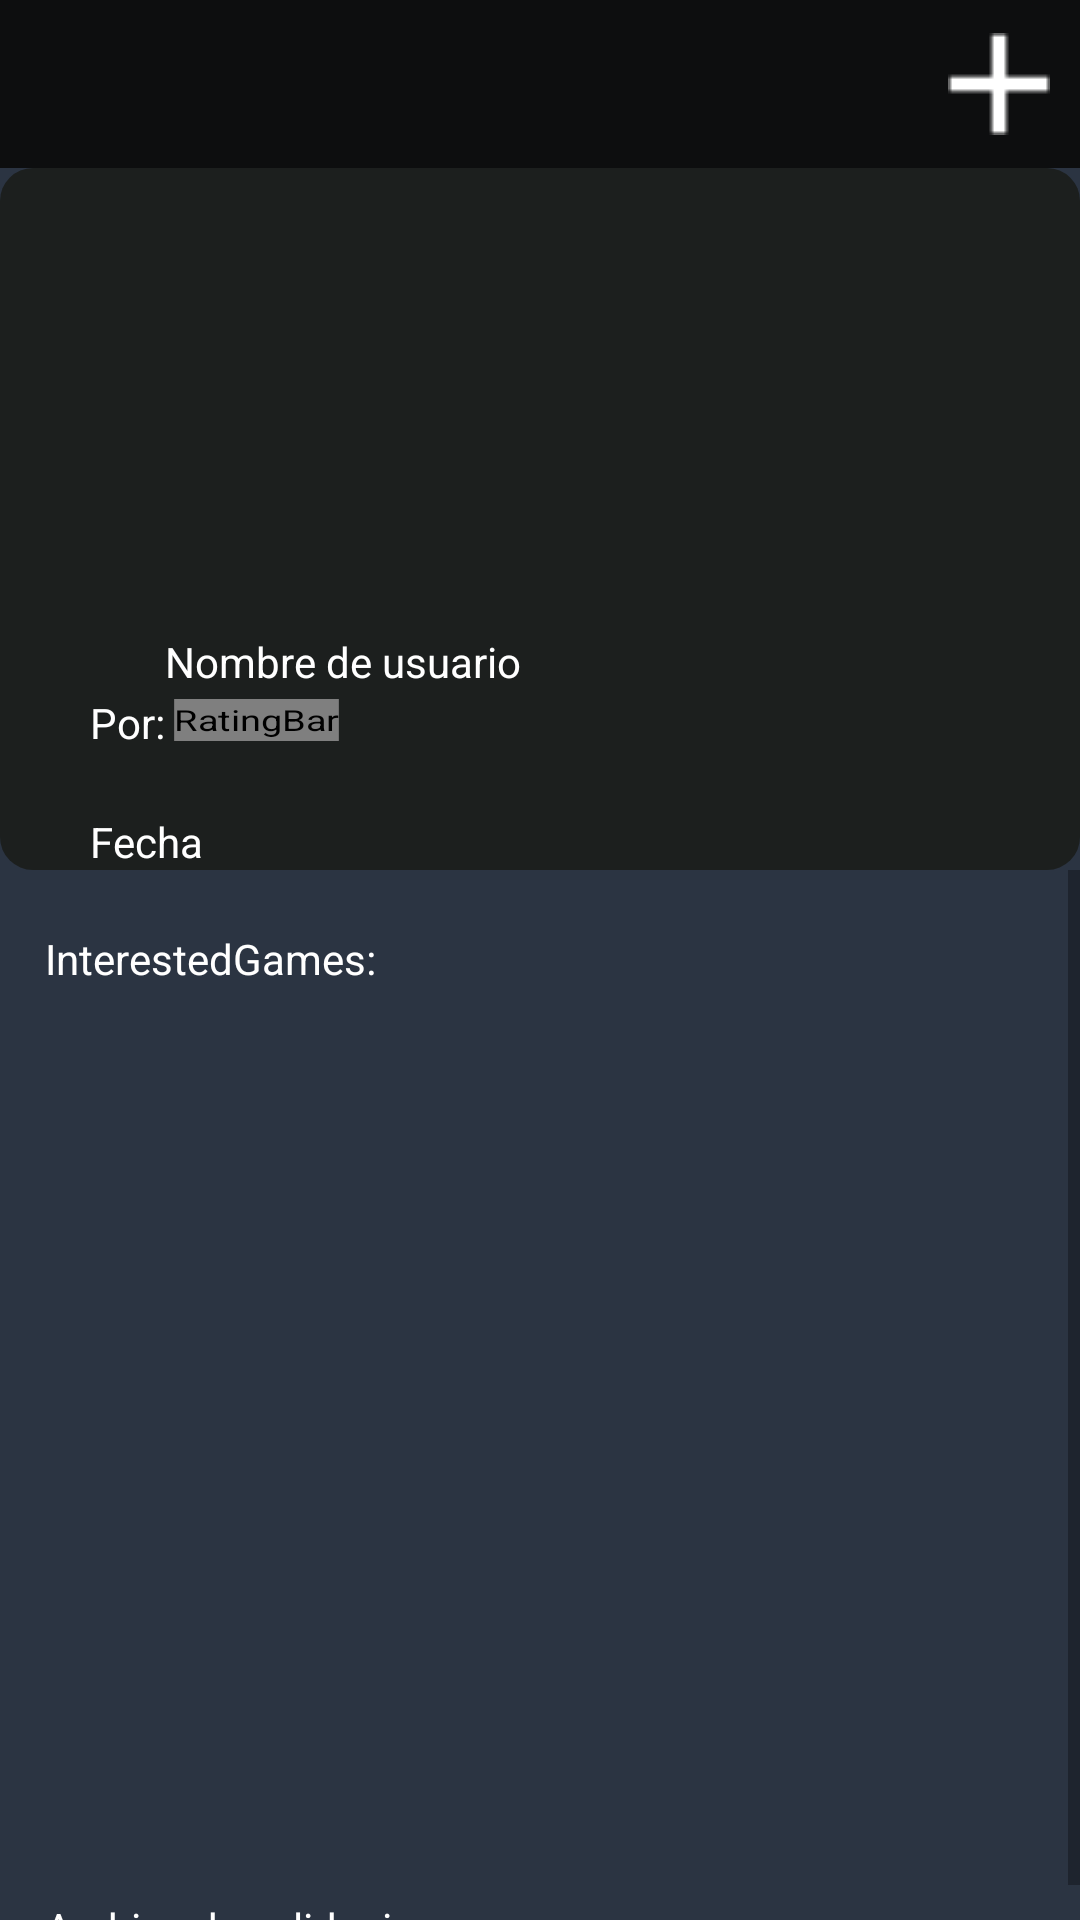

Icon click points for this 1080×1920 phone screenshot, format point (x, y):
trade add: point (999, 84)
